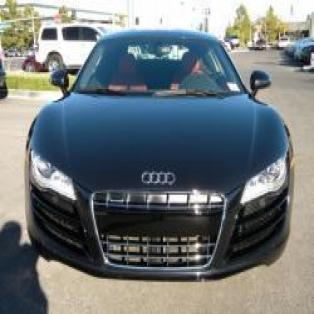Auto: (20, 27, 295, 284)
